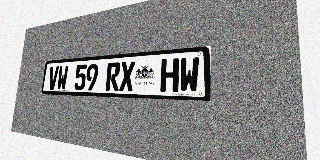5: (74, 64, 87, 90)
9: (85, 63, 99, 91)
H: (160, 58, 179, 92)
R: (105, 62, 121, 91)
V: (47, 66, 59, 90)
W: (179, 57, 200, 93), (56, 66, 69, 90)
X: (119, 61, 135, 91)
